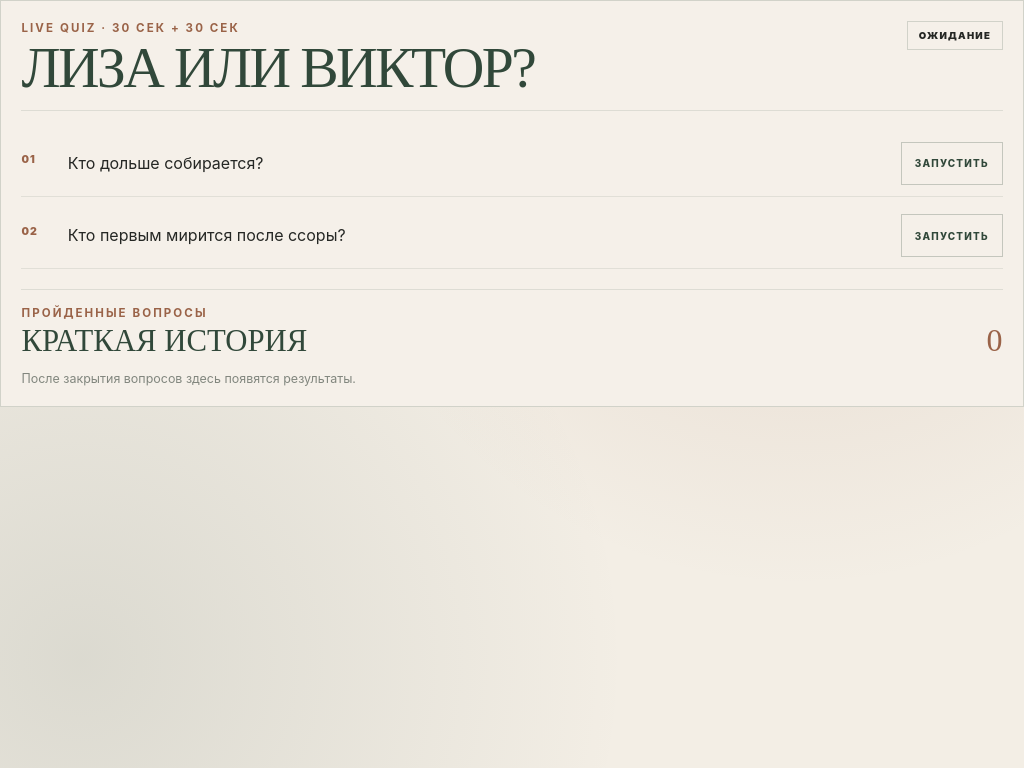
Test: AdminQuizPanel › activates a selected question, broadcasts refresh, and reloads owner state
Step 1. Click the button with aria-label "ЗАПУСТИТЬ: Кто первым мирится после ссоры?" → (952, 236), box [901,214,1002,257]
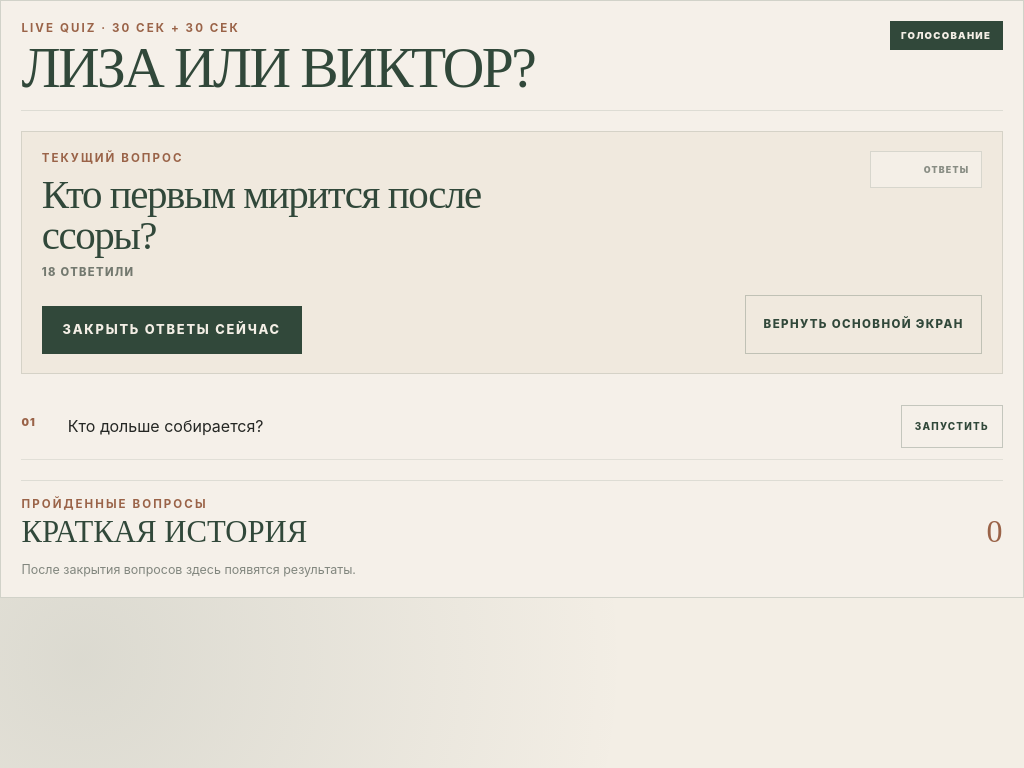
Now the text "18 ОТВЕТИЛИ" is shown, box [42,265,134,279]
